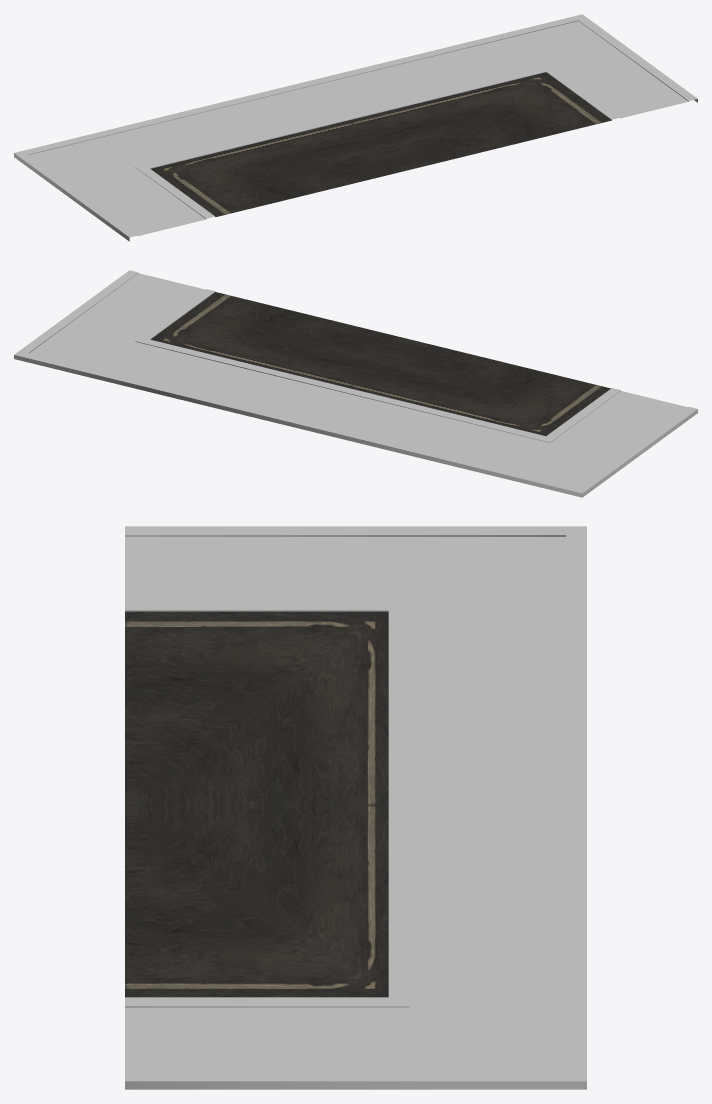
Rendered from Road_End_A.fbx.
3 views of the same model, one above another, from view 1: azimuth 30°, elevation 25°; view 2: azimuth 150°, elevation 25°; view 3: azimuth 270°, elevation 25° (orthographic). The views are drawn at different scales.
Visible parts, largest first — view 1: Road_End_A; view 2: Road_End_A; view 3: Road_End_A.
Boxes of the visible parts, x1,y1,x2,y2 form: Road_End_A: (14,14,697,241); Road_End_A: (14,270,697,497); Road_End_A: (125,526,586,1089).
Size of the model in its own units: 1500 by 10.58 by 528.
